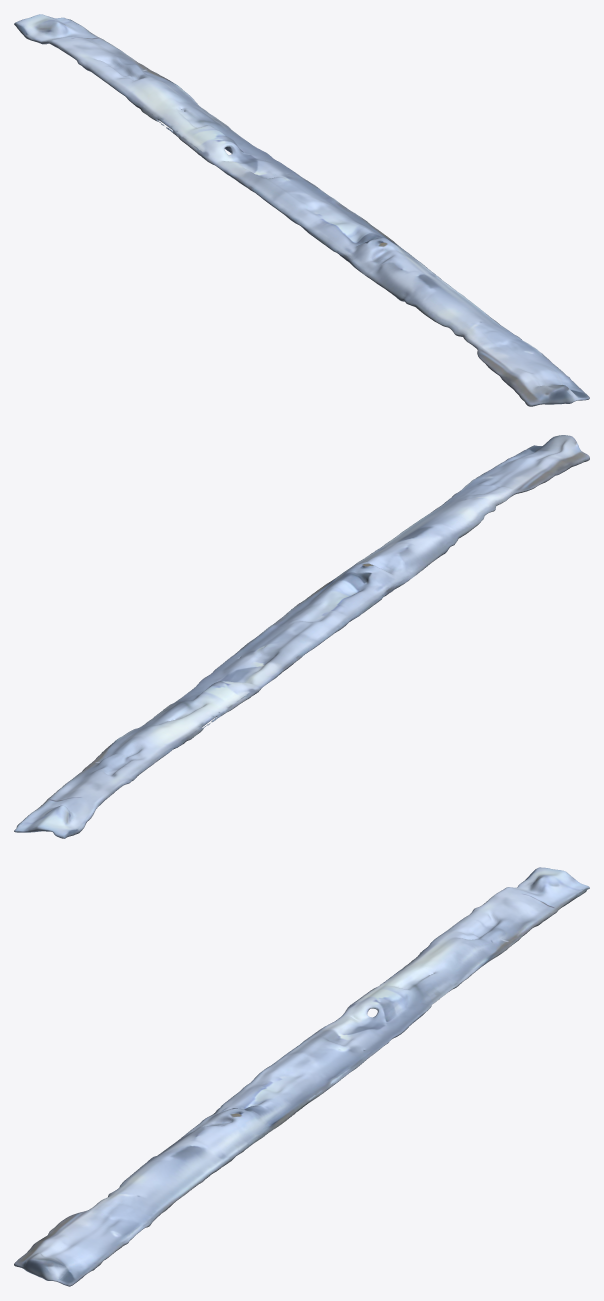
Rendered from SnowyCobblestoneRoad.obj.
The picture shows the model from 3 angles, top to bottom: view 1: azimuth 30°, elevation 25°; view 2: azimuth 150°, elevation 25°; view 3: azimuth 330°, elevation 25°; orthographic projection. The views are drawn at different scales.
Parts seen in each view (by area): view 1: tripo_mesh_16108ae3; view 2: tripo_mesh_16108ae3; view 3: tripo_mesh_16108ae3.
Boxes of the visible parts, left/top/right/bottom form: tripo_mesh_16108ae3: left=14, top=14, right=589, bottom=406; tripo_mesh_16108ae3: left=14, top=435, right=589, bottom=838; tripo_mesh_16108ae3: left=14, top=867, right=589, bottom=1286.
Size of the model in its own units: 7.44 by 2.86 by 99.94.
Materials: 1 (1 with a texture image).
